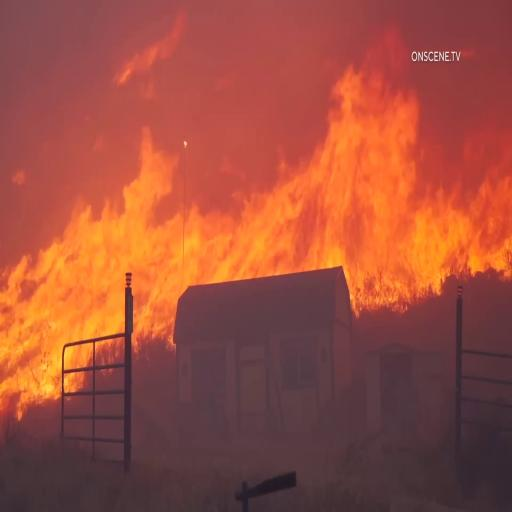fire: (0, 144, 179, 408), (187, 75, 412, 272), (348, 140, 509, 299)
